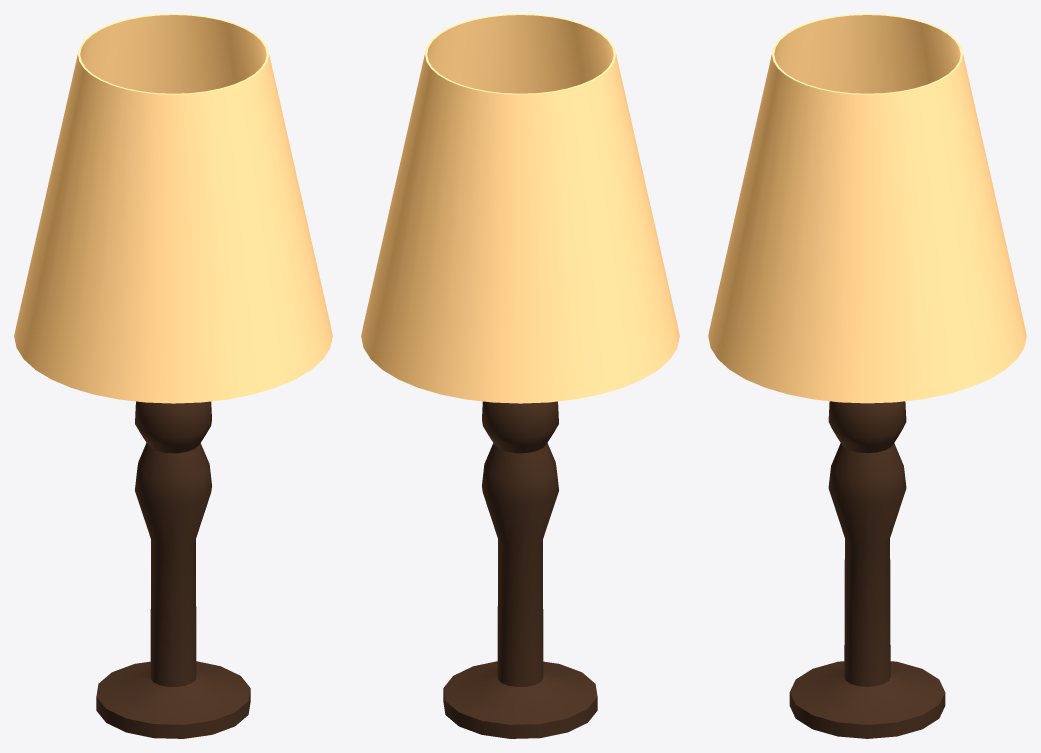
Rendered from Table_Lamp_ThinShapelyBase_ConeShade.fbx.
3 renders of one model, left to right at view 1: azimuth 30°, elevation 25°; view 2: azimuth 150°, elevation 25°; view 3: azimuth 270°, elevation 25°, orthographic.
Parts seen in each view (by area): view 1: Table_Lamp_ThinShapelyBase_ConeShade; view 2: Table_Lamp_ThinShapelyBase_ConeShade; view 3: Table_Lamp_ThinShapelyBase_ConeShade.
Part boxes in pixels (<box>): Table_Lamp_ThinShapelyBase_ConeShade: <box>14,14,332,738</box>; Table_Lamp_ThinShapelyBase_ConeShade: <box>361,14,679,738</box>; Table_Lamp_ThinShapelyBase_ConeShade: <box>708,14,1026,738</box>.
Bounding box in the file's own units: 30.75 × 69.41 × 30.75.
